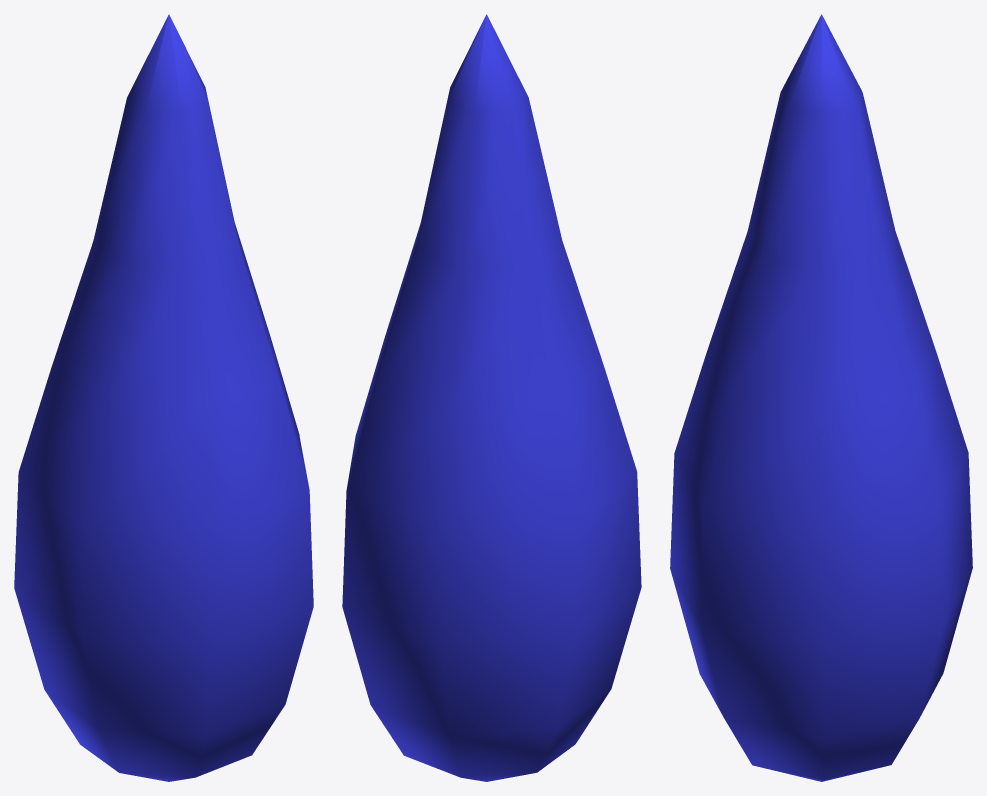
File: raindrop.glb
3 renders of one model, left to right at view 1: azimuth 30°, elevation 25°; view 2: azimuth 150°, elevation 25°; view 3: azimuth 270°, elevation 25°, orthographic.
Parts seen in each view (by area): view 1: Vert; view 2: Vert; view 3: Vert.
Boxes of the visible parts, left/top/right/bottom form: Vert: left=14, top=14, right=313, bottom=781; Vert: left=342, top=14, right=641, bottom=781; Vert: left=670, top=14, right=972, bottom=781.
Size of the model in its own units: 0.248 by 0.7112 by 0.2541.
